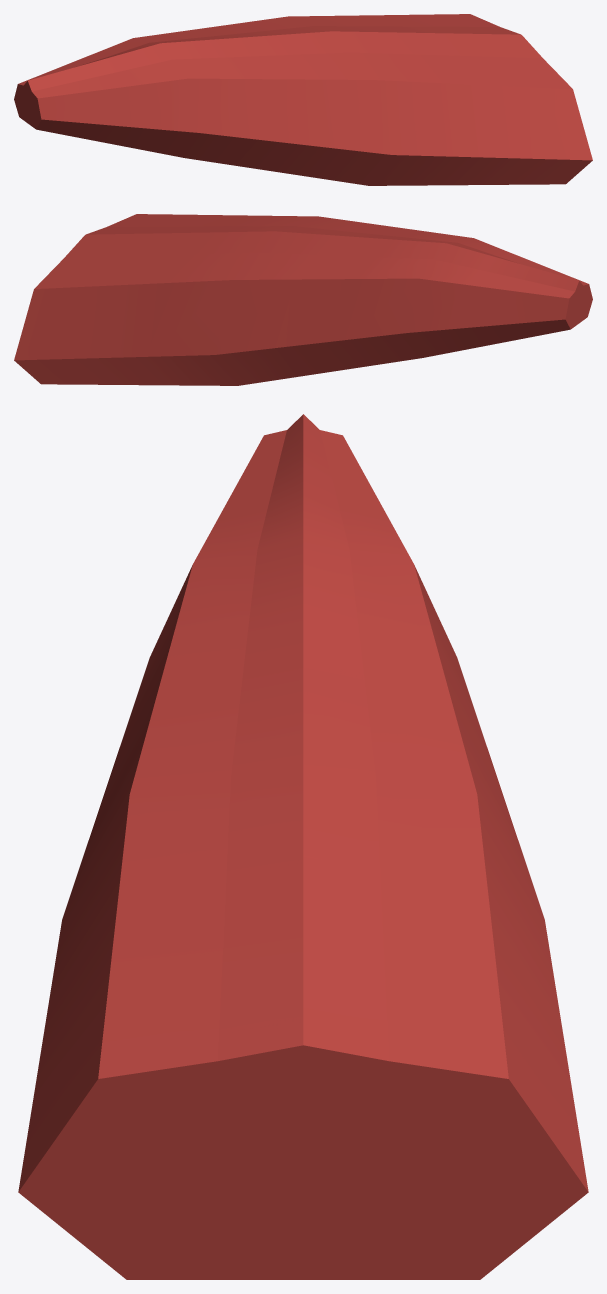
The model's file is sport_lod1.glb.
The picture shows the model from 3 angles, top to bottom: view 1: azimuth 30°, elevation 25°; view 2: azimuth 150°, elevation 25°; view 3: azimuth 270°, elevation 25°; orthographic projection. The views are drawn at different scales.
Visible parts, largest first — view 1: sport_lod1; view 2: sport_lod1; view 3: sport_lod1.
Boxes of the visible parts, left/top/right/bottom form: sport_lod1: left=14, top=14, right=592, bottom=185; sport_lod1: left=14, top=214, right=592, bottom=385; sport_lod1: left=18, top=414, right=588, bottom=1279.
Bounding box in the file's own units: 0.52 × 0.198 × 0.26.
